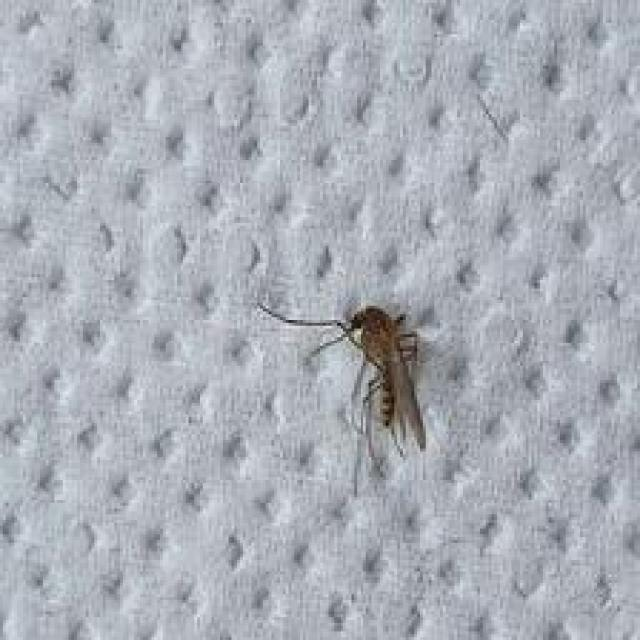Culex: (257, 294, 429, 463)
